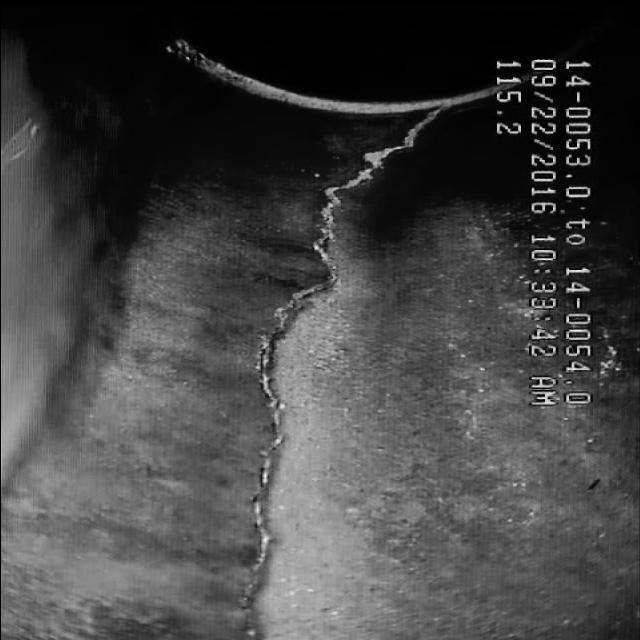Crack: (194, 148, 382, 570)
